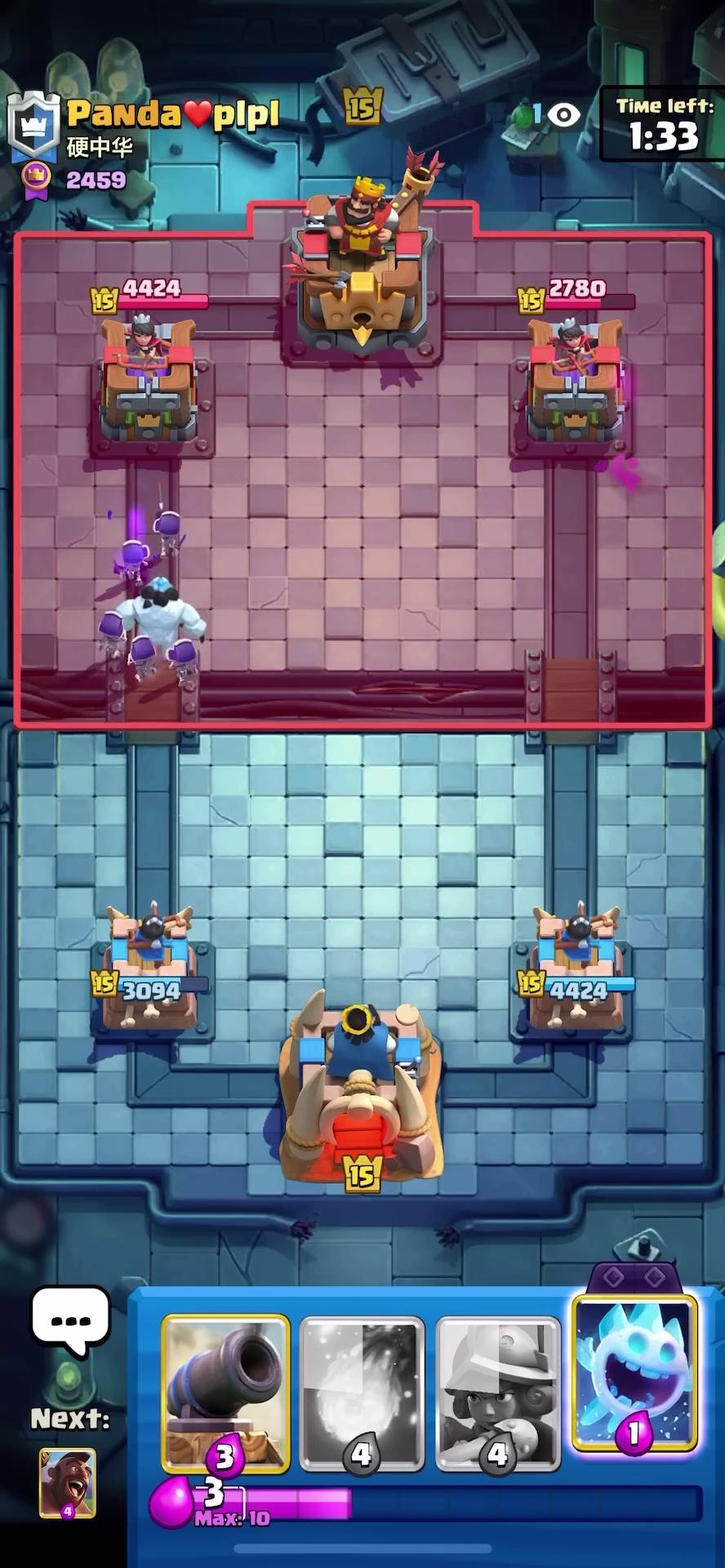evo_skeletons: (80, 615, 220, 684), (106, 500, 188, 582)
ice_golem: (100, 578, 216, 645)
